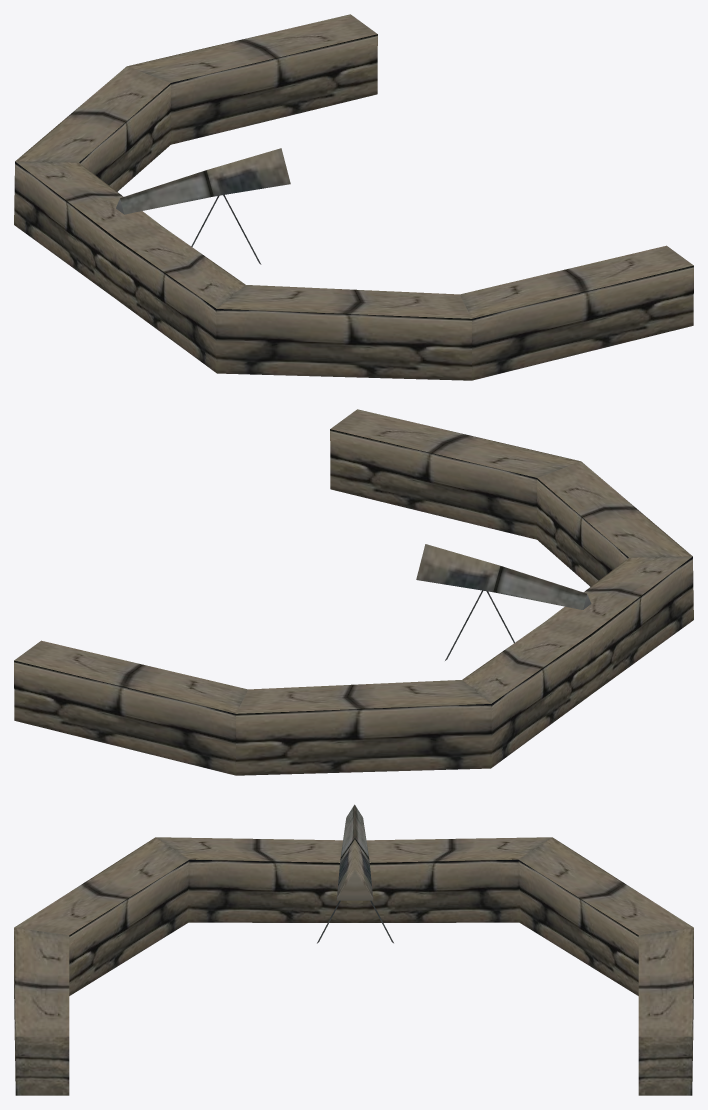
File: sandbagbunker_hdtex.glb
The picture shows the model from 3 angles, top to bottom: view 1: azimuth 30°, elevation 25°; view 2: azimuth 150°, elevation 25°; view 3: azimuth 270°, elevation 25°; orthographic projection.
Parts seen in each view (by area): view 1: Sandbagbunker; view 2: Sandbagbunker; view 3: Sandbagbunker.
Boxes of the visible parts, left/top/right/bottom form: Sandbagbunker: left=14, top=14, right=693, bottom=380; Sandbagbunker: left=14, top=409, right=693, bottom=775; Sandbagbunker: left=14, top=804, right=693, bottom=1095.
Size of the model in its own units: 5.73 by 1.5 by 8.41.
1 material, 1 textured.
